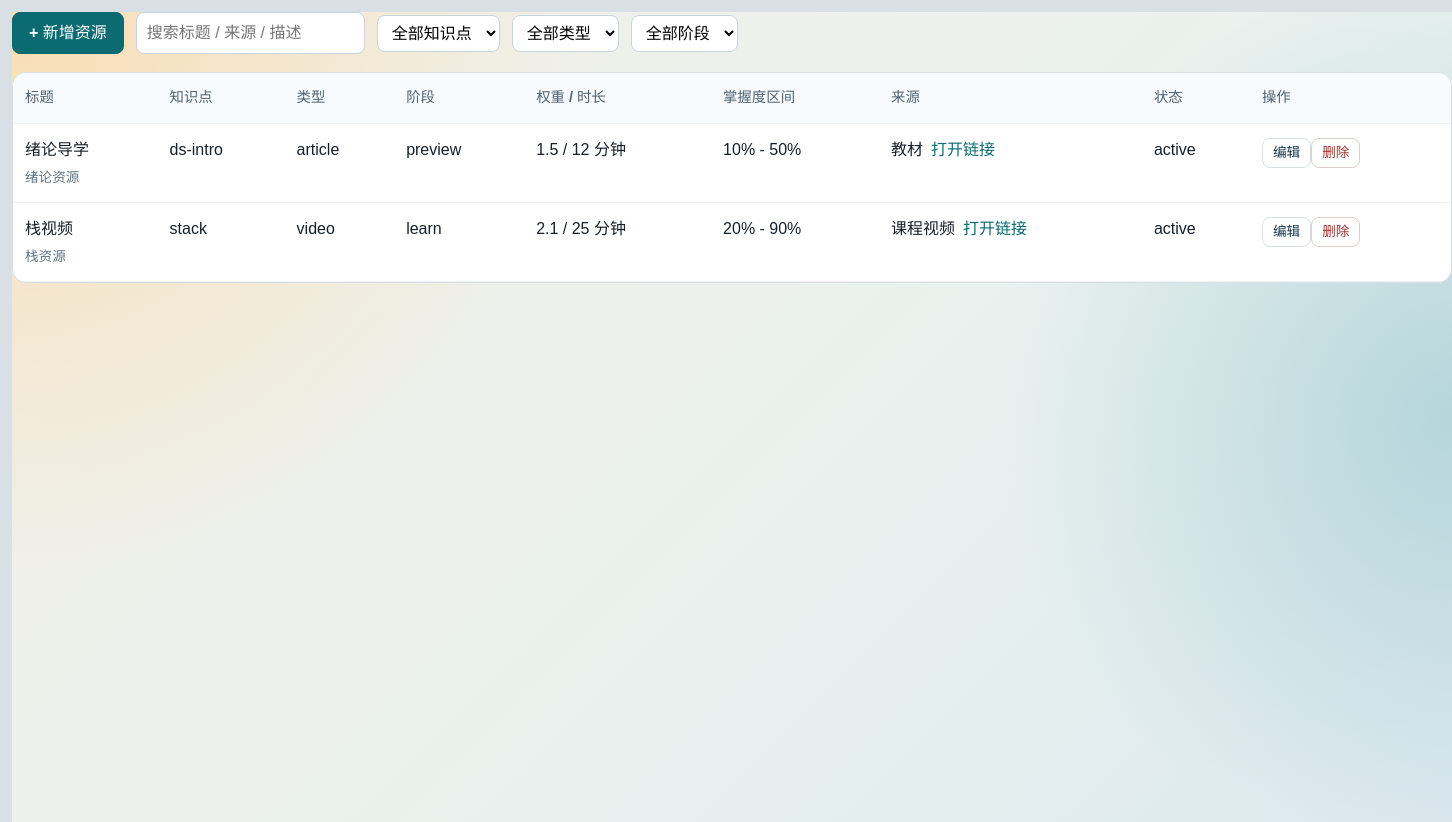
Test: TeacherResourcesView › filters rows by knowledge point
The image size is (1452, 822).
Select "stack" in the 1st dropdown with class "filter-select" at (438, 33), box [377,14,500,52]
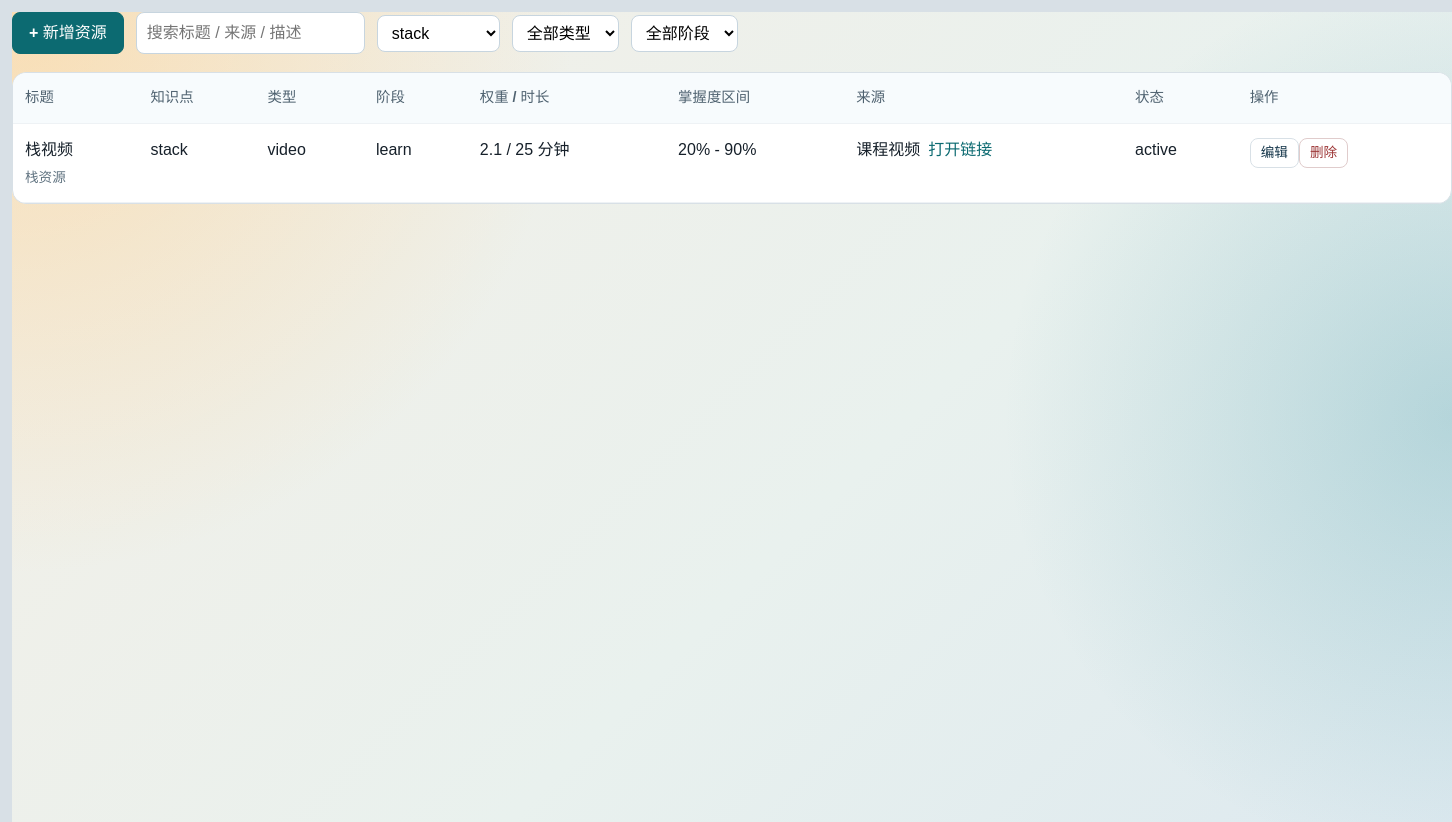
Expected: the text "栈视频" is shown, [25,141,73,158]
Expected: the text "绪论导学" is gone
